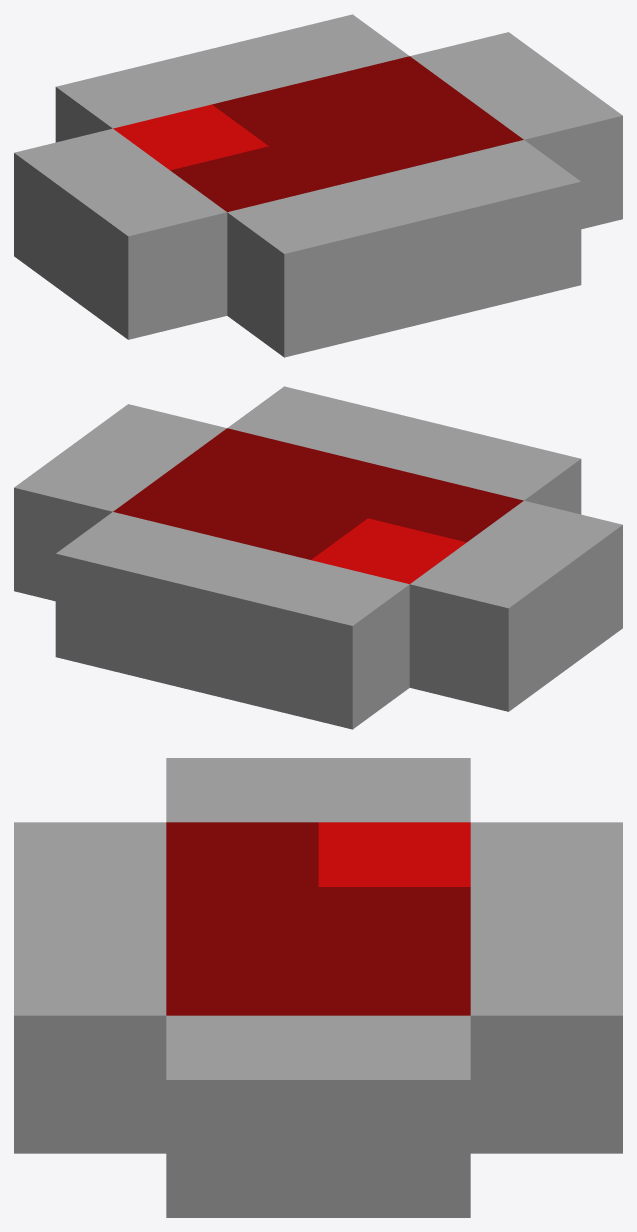
File: buckle-1.obj
3 renders of one model, top to bottom at view 1: azimuth 30°, elevation 25°; view 2: azimuth 150°, elevation 25°; view 3: azimuth 270°, elevation 25°, orthographic. The views are drawn at different scales.
Size of the model in its own units: 5 by 1 by 4.
1 material, 1 textured.
